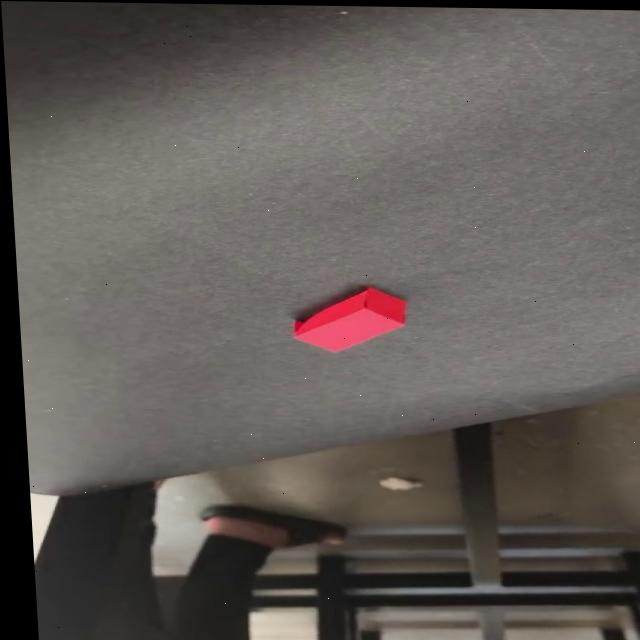red block: (289, 285, 411, 354)
